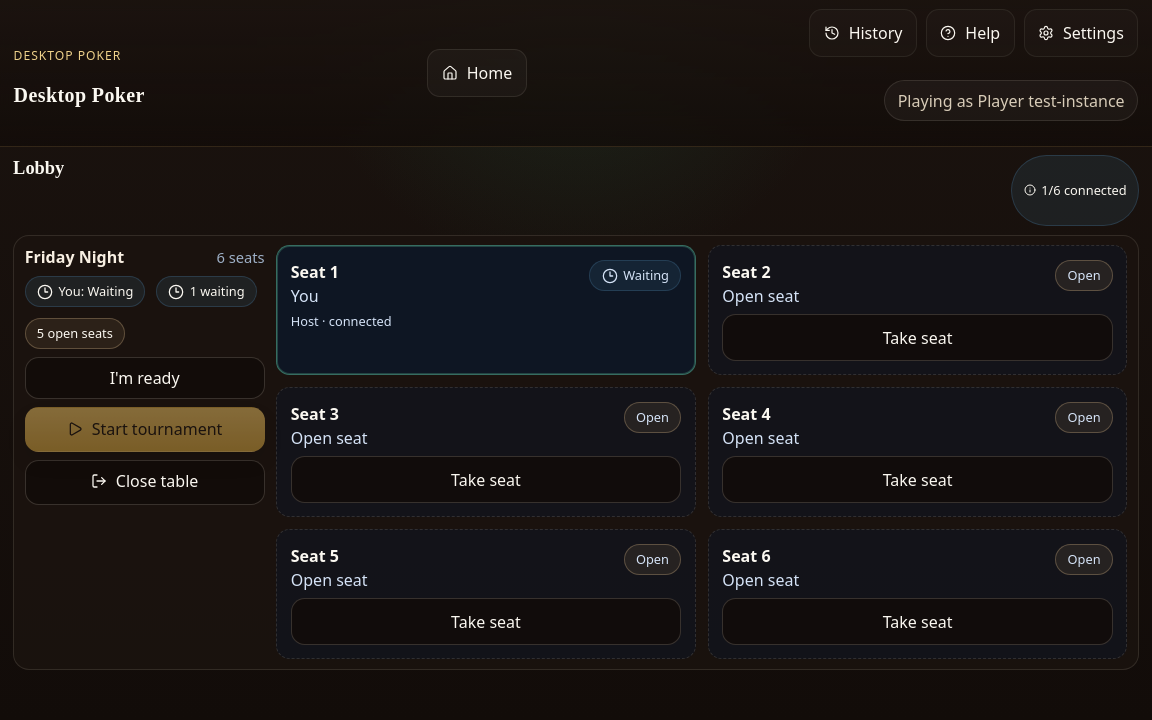
Test: AppShell integration (client and routing) › stops the live host session before leaving the lobby
Expected: the heading "Lobby" is shown, [13, 158, 64, 178]
Step 1. Click the button "Close table" → (145, 482), box [25, 460, 265, 505]
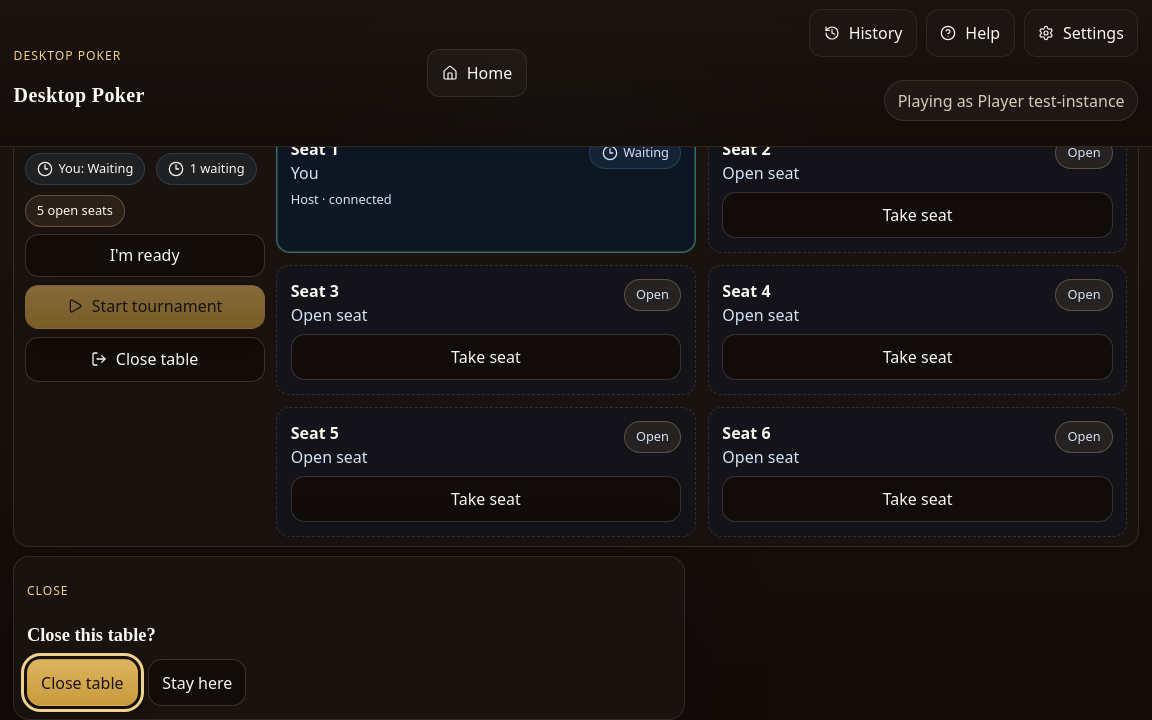
Step 2. Click the button "Close table" below "Close this table?" → (82, 683), box [27, 659, 138, 706]
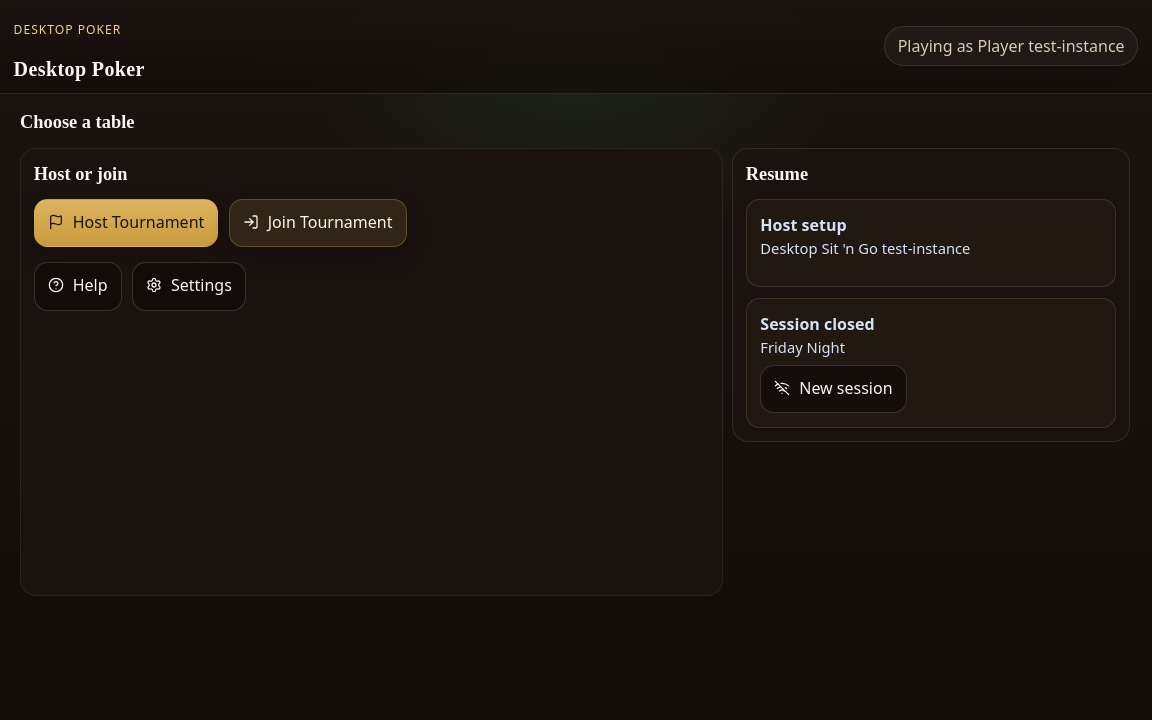
Now the heading "Choose a table" is shown, box [20, 109, 134, 136]
